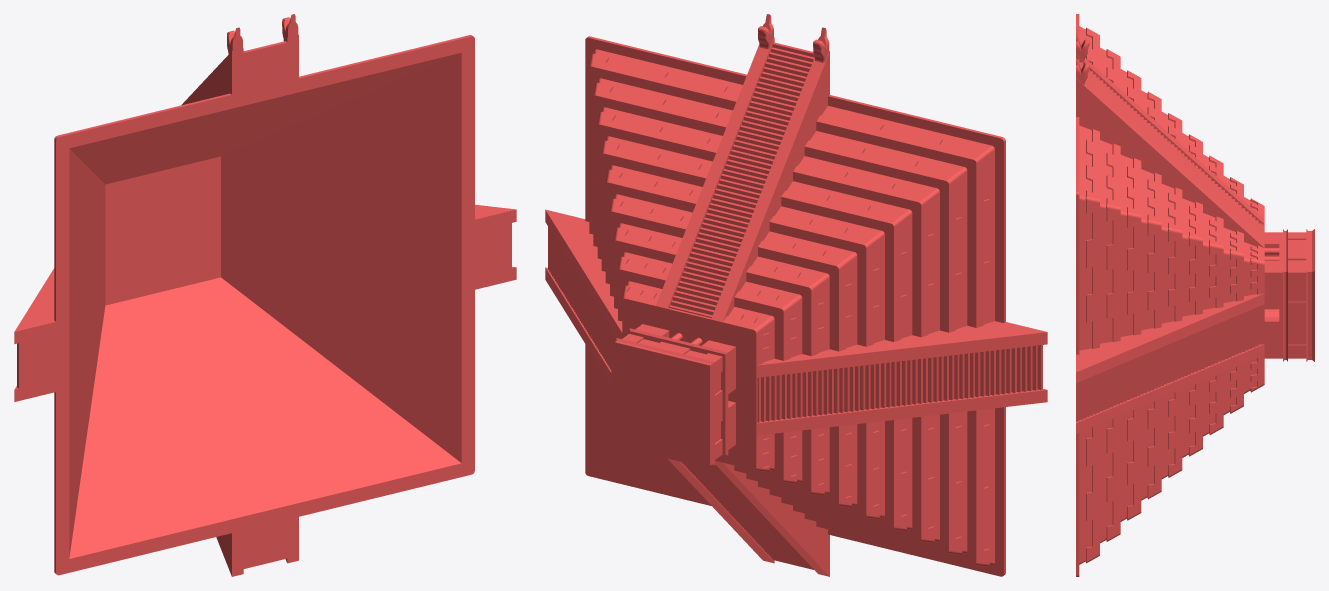
Rendered from Temple of Kukulcán.glb.
The picture shows the model from 3 angles, left to right: view 1: azimuth 30°, elevation 25°; view 2: azimuth 150°, elevation 25°; view 3: azimuth 270°, elevation 25°; orthographic projection. The views are drawn at different scales.
Bounding box in the file's own units: 132 × 137 × 61.68.
